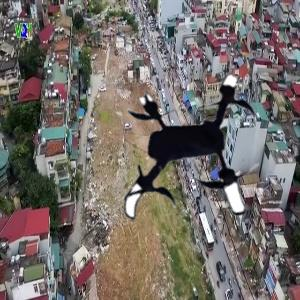drone: (103, 69, 285, 251)
